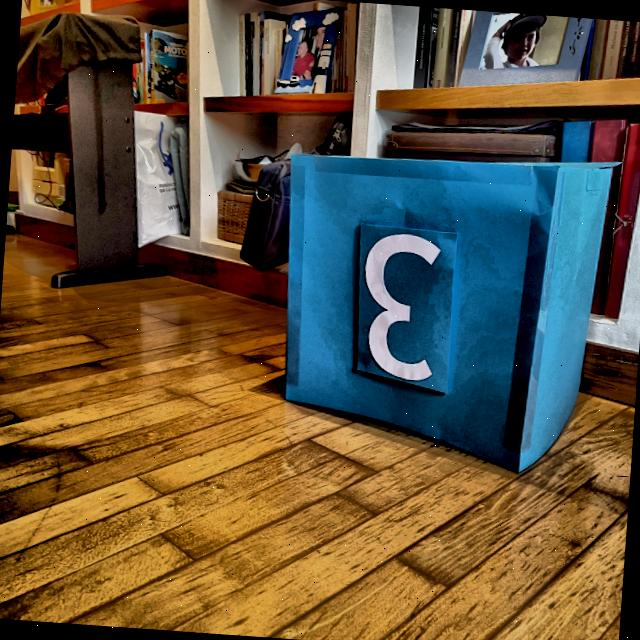blue box: (270, 140, 614, 481)
three: (358, 228, 448, 384)
